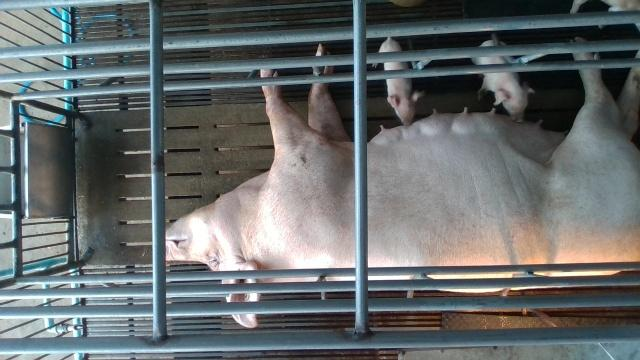piglet: (471, 41, 535, 122), (374, 36, 424, 128)
sow-sleep-lactate: (165, 42, 640, 326)
